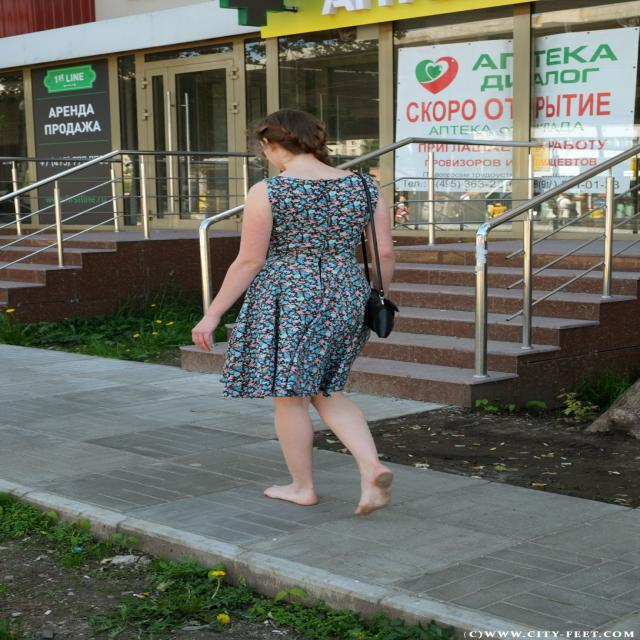No Safety Boots: (354, 466, 394, 516), (264, 484, 318, 506)
